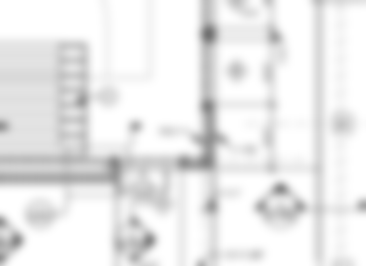double door: (118, 166, 171, 194)
